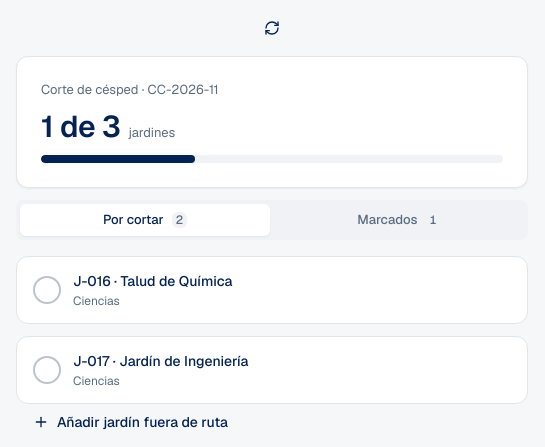
Test: RutaDeHoyPage › muestra el avance y marca un jardín con un toque, con clave de idempotencia (Figma 353-2335)
expect the text "1 de 3" is shown: met, box [41, 109, 120, 145]
expect the text "Corte de césped · CC-2026-11" is shown: met, box [41, 81, 218, 98]
Click the button named "J-016 · Talud de Química, pendiente": (272, 290) [16, 256, 528, 324]
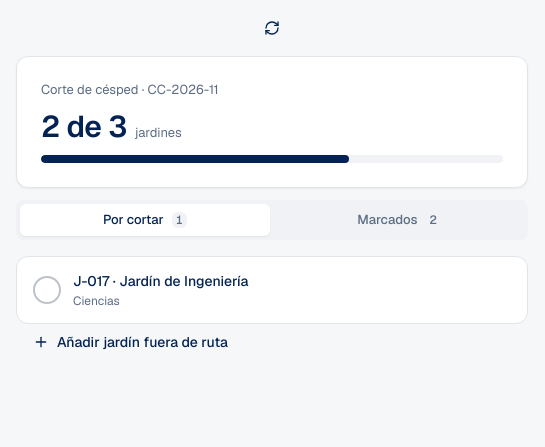
expect the text "2 de 3" is shown: met, box [41, 109, 127, 145]
expect the button "J-016" is gone: met
